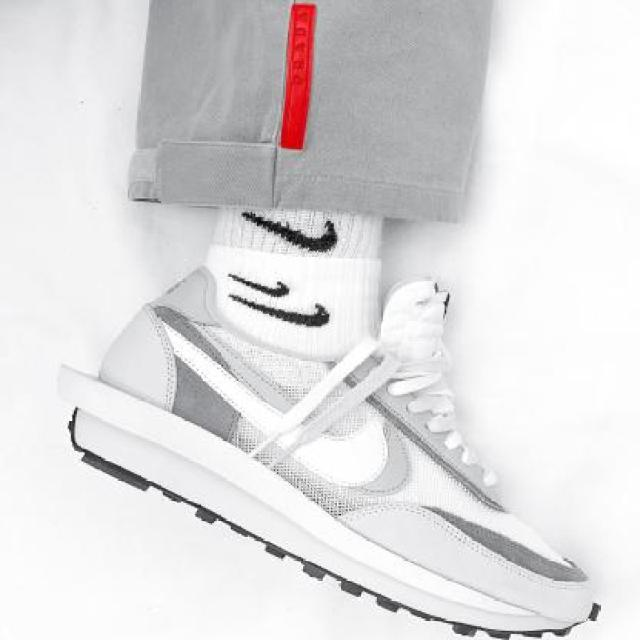shoe: (60, 266, 602, 640)
